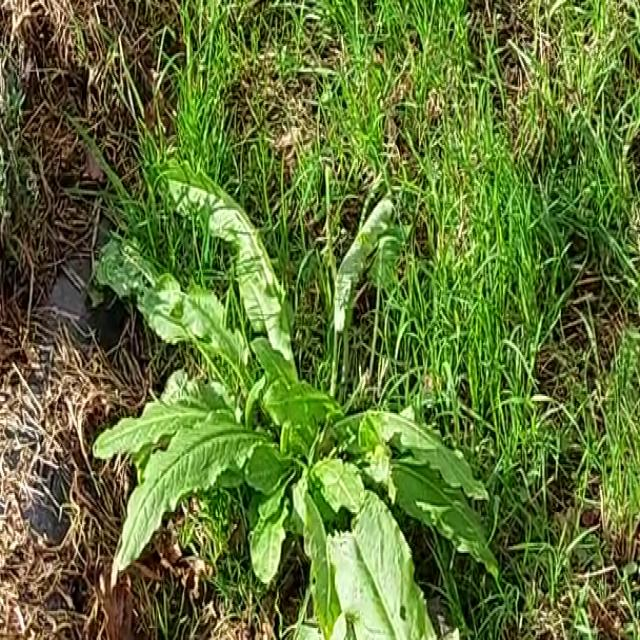organic waste: (68, 140, 516, 640)
